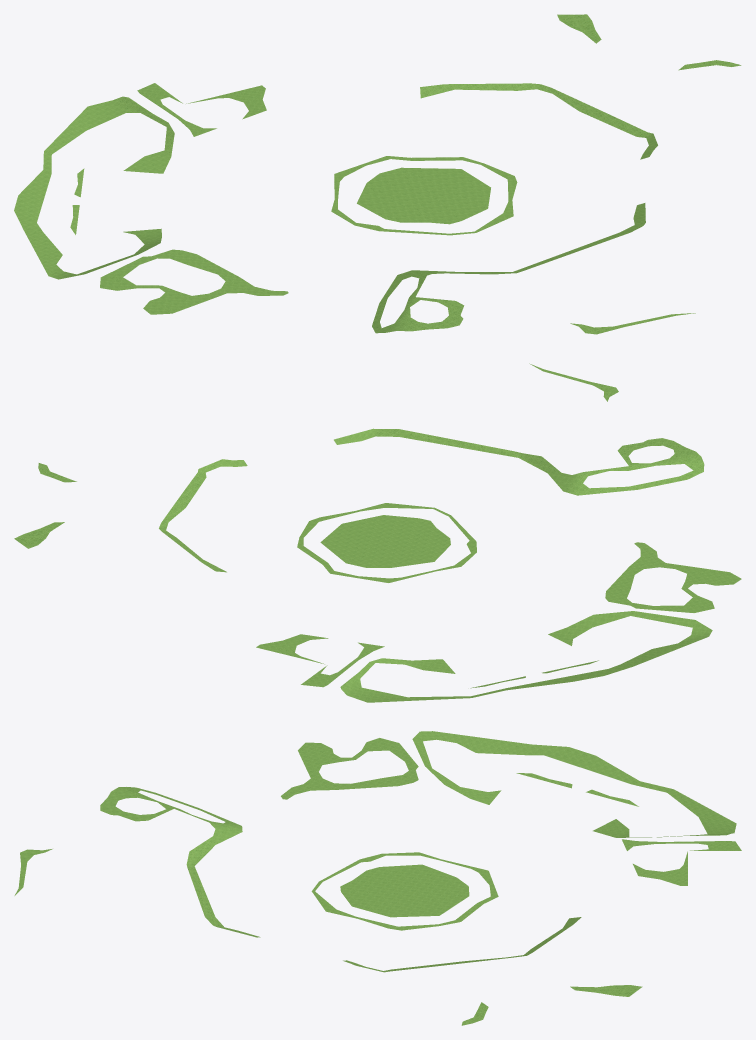
File: kd_stage_1363c5_11_15_bounded.glb
The picture shows the model from 3 angles, top to bottom: view 1: azimuth 30°, elevation 25°; view 2: azimuth 150°, elevation 25°; view 3: azimuth 270°, elevation 25°; orthographic projection. The views are drawn at different scales.
Visible parts, largest first — view 1: kd_stage_1363c5_11_15_bounded; view 2: kd_stage_1363c5_11_15_bounded; view 3: kd_stage_1363c5_11_15_bounded.
Boxes of the visible parts, x1,y1,x2,y2 form: kd_stage_1363c5_11_15_bounded: (14, 14, 741, 334); kd_stage_1363c5_11_15_bounded: (14, 363, 741, 702); kd_stage_1363c5_11_15_bounded: (14, 731, 741, 1025).
Bounding box in the file's own units: 41.9 × 2.06 × 40.4.
Materials: 1 (1 with a texture image).
